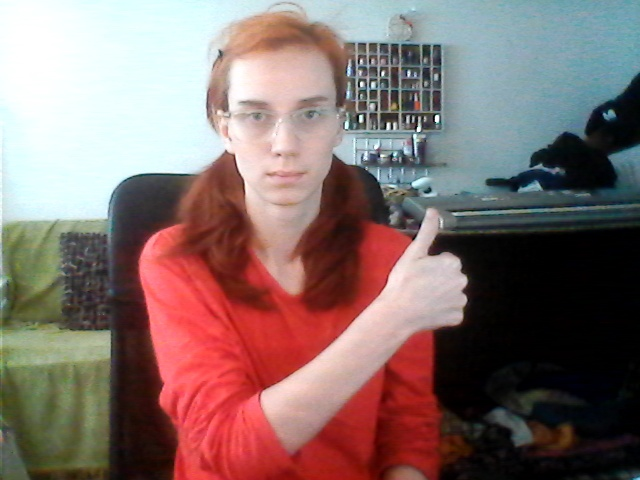jeden: (386, 207, 472, 343)
